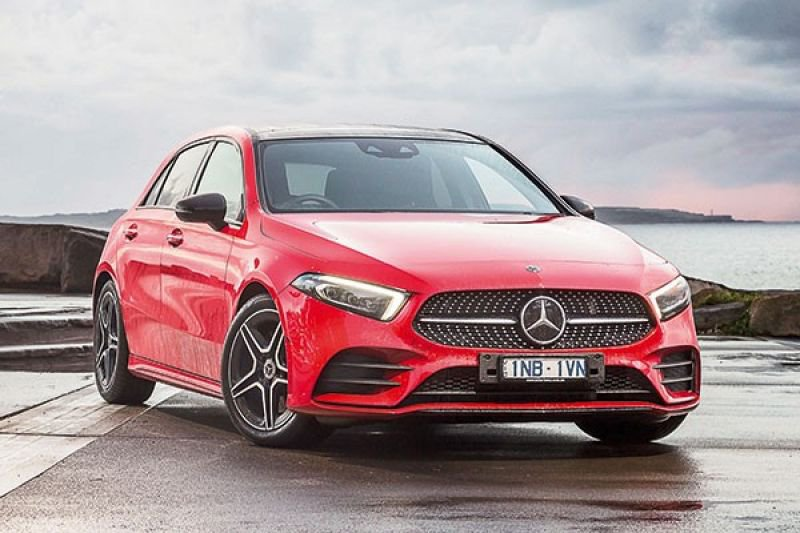car: (90, 117, 704, 469)
